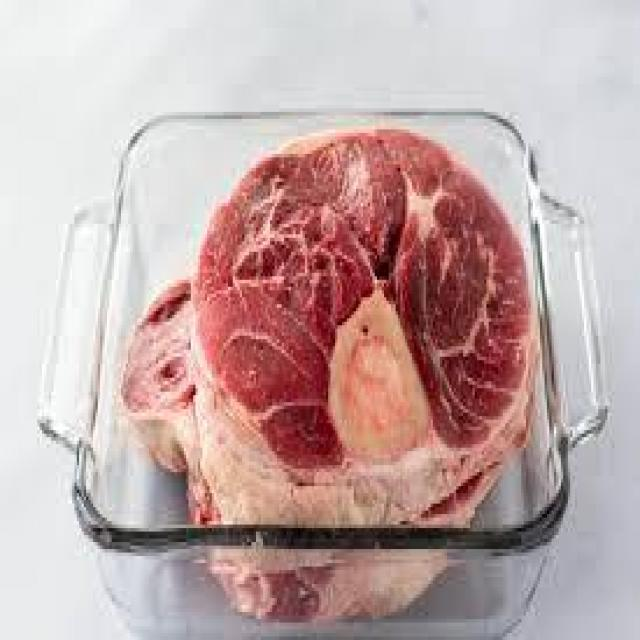Beef: (196, 121, 538, 514)
